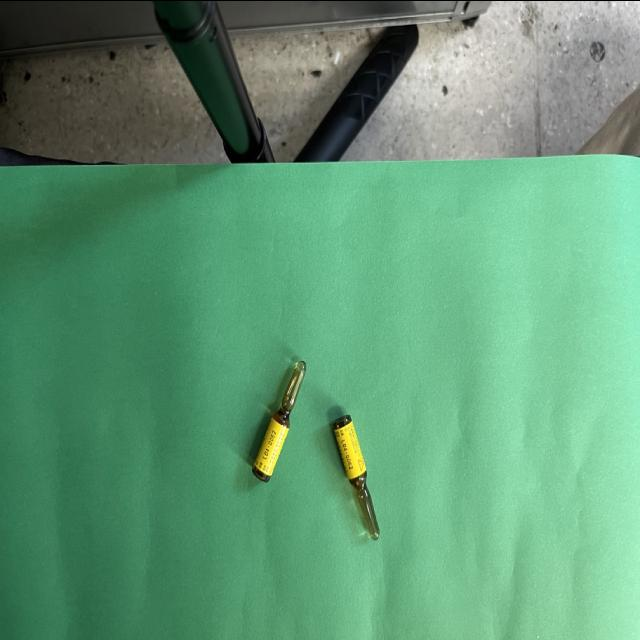Ampoules: (252, 359, 306, 481), (332, 413, 380, 540)
